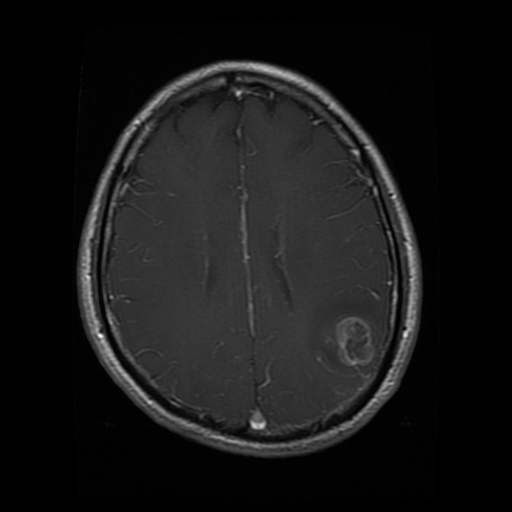glioma: (311, 283, 386, 374)
